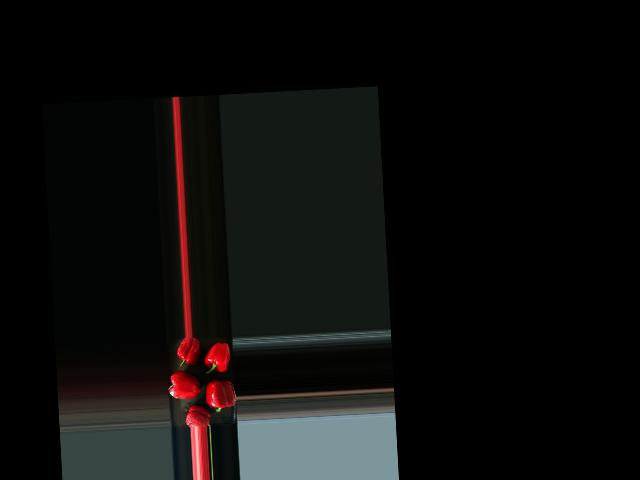bell_pepper: (180, 403, 212, 427)
